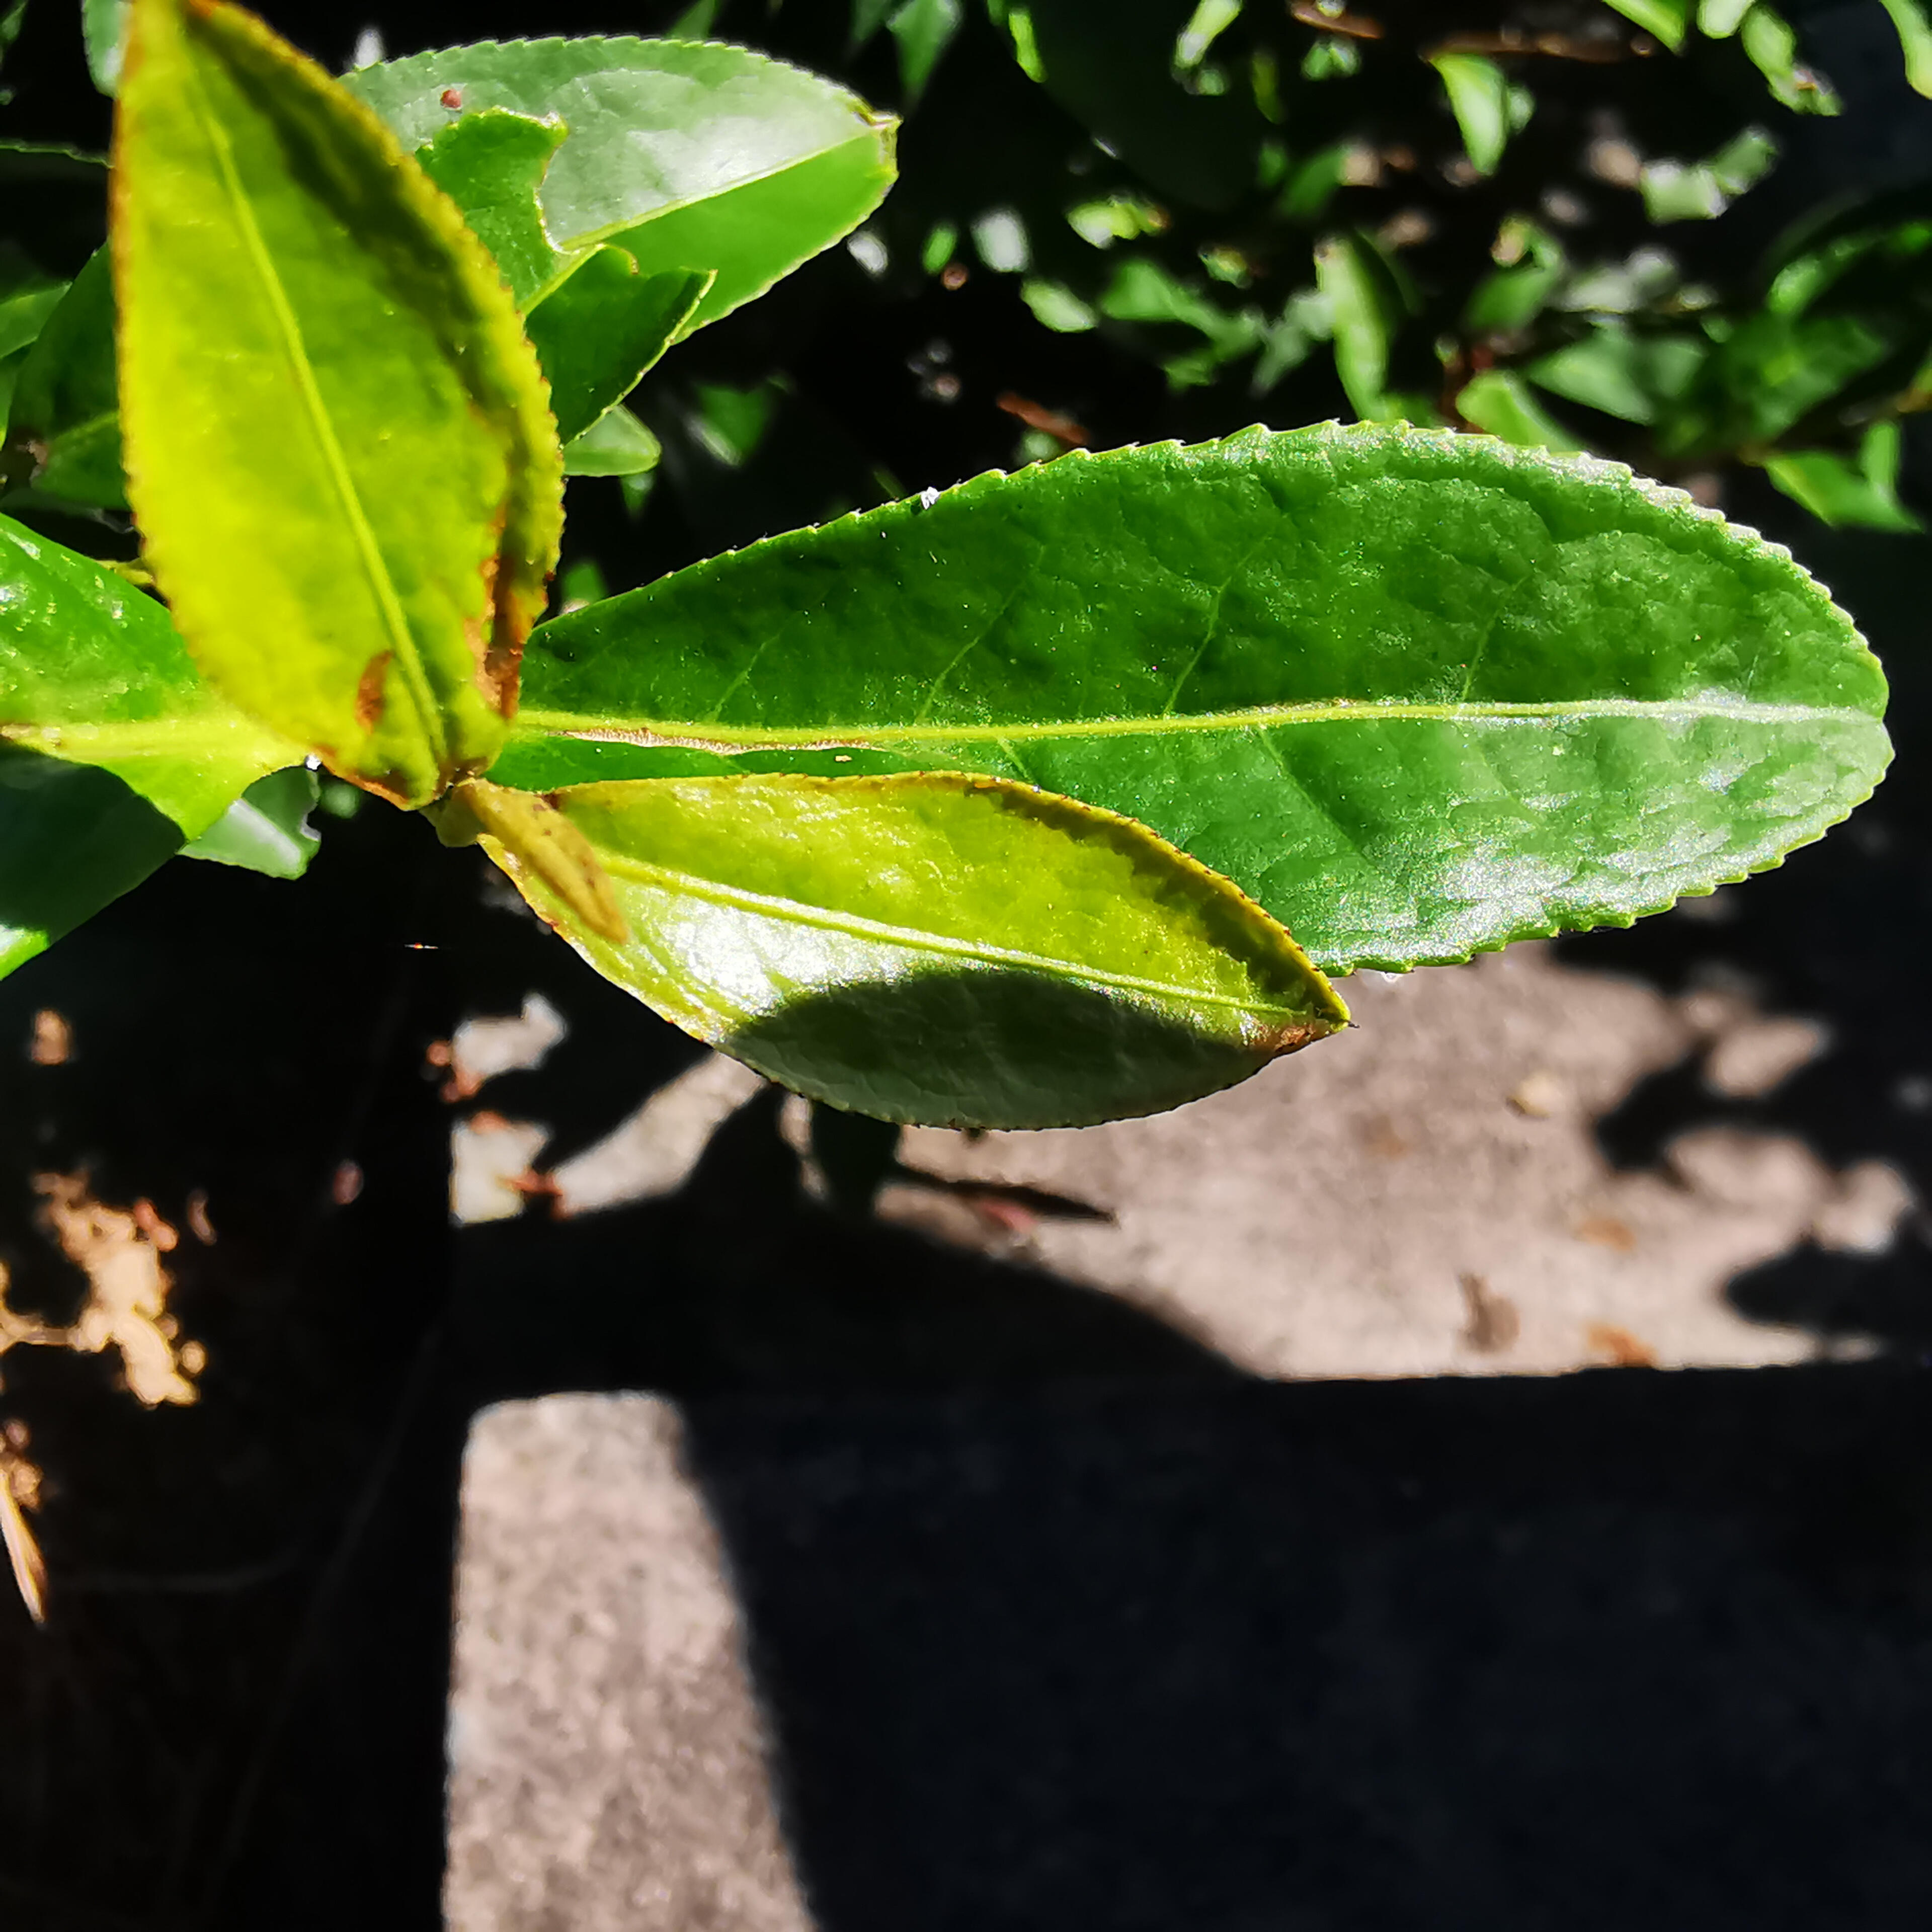chihuo_high: (412, 101, 717, 448)
tanju_low: (108, 2, 570, 816), (474, 766, 1350, 1132)
